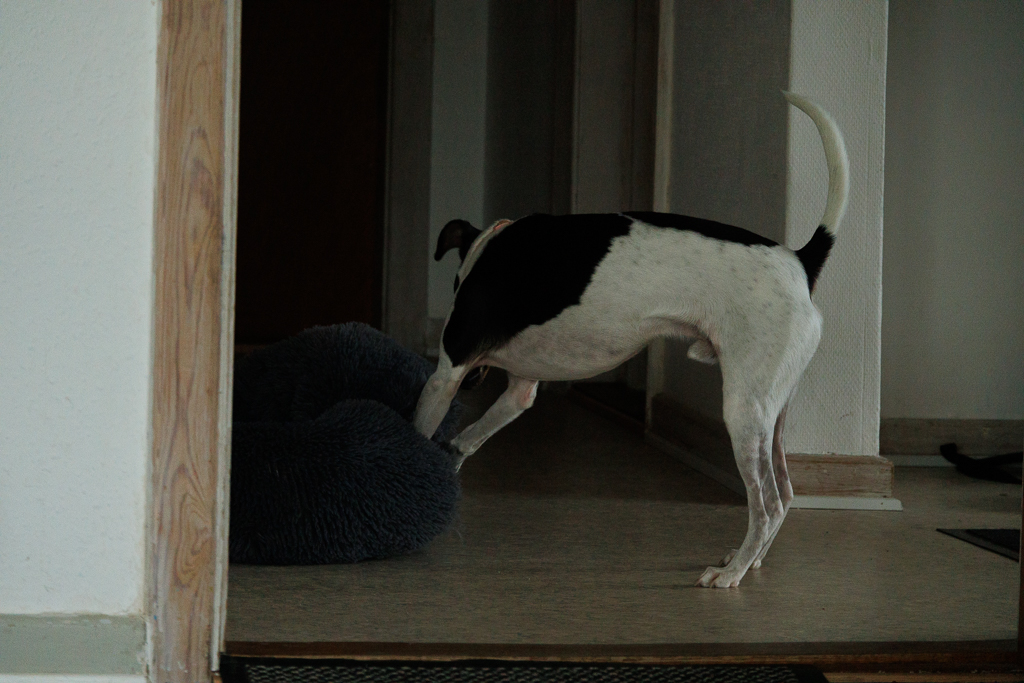Dog: (405, 83, 853, 607)
